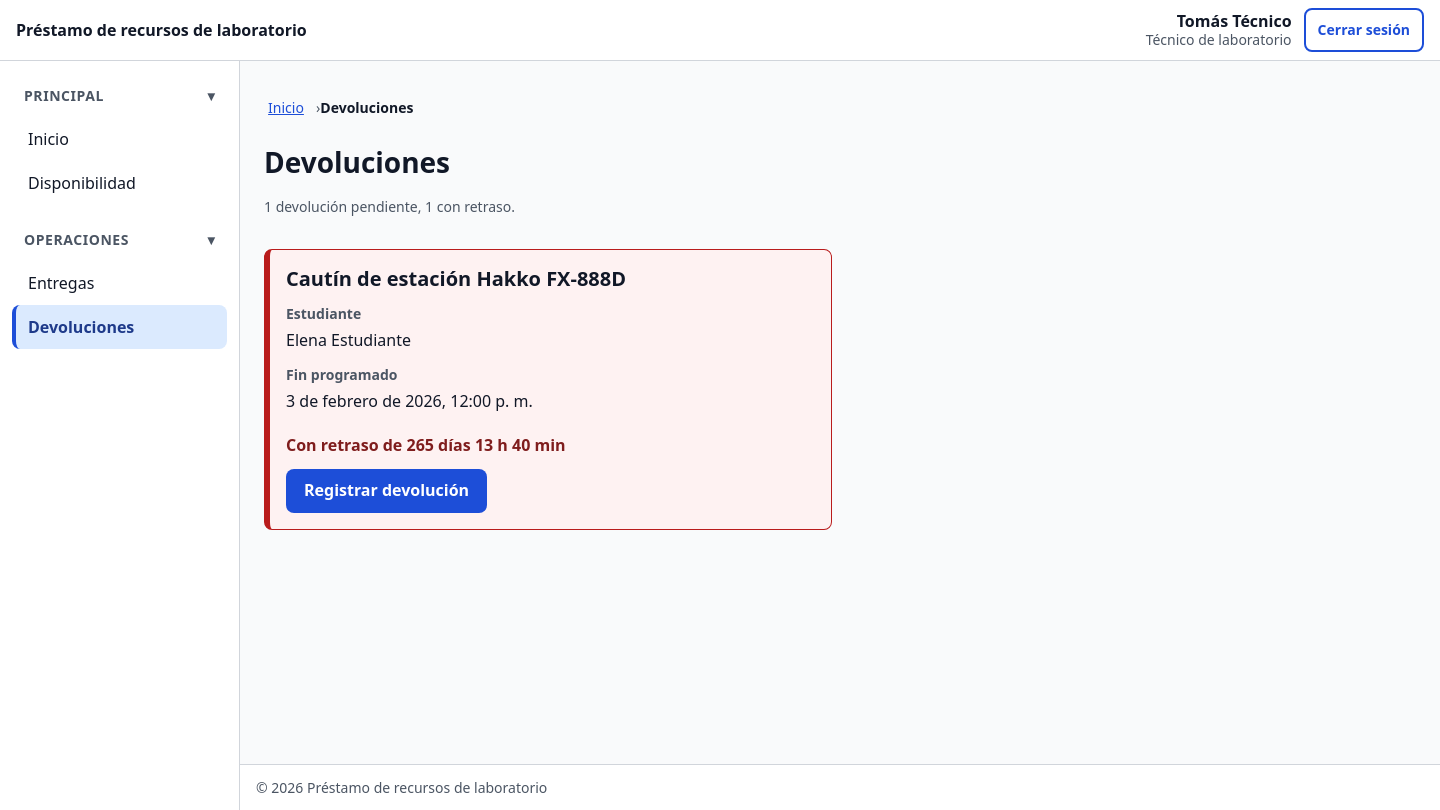
Test: devoluciones pendientes (Req 13) › devolver en buen estado libera la unidad, calcula el retraso y deja el recurso Disponible (Req 13.5–13.7, 13.10, 13.11)
The width and height of the screenshot is (1440, 810).
Step 1. Click the button with aria-label "Registrar devolución:" → (387,491), box [286,469,487,513]
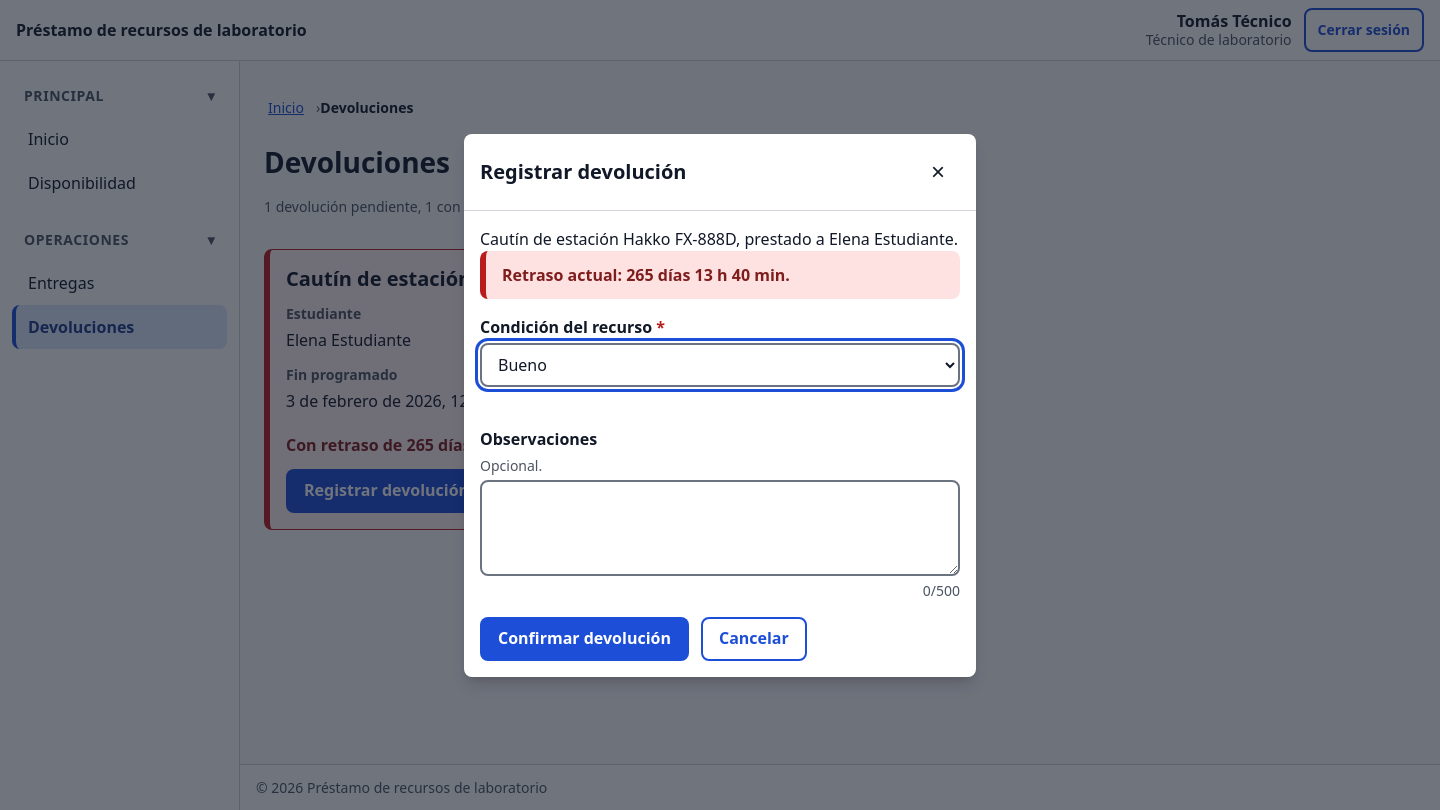
Step 2. Click the button "Confirmar devolución" → (584,638), box [480,616,689,660]
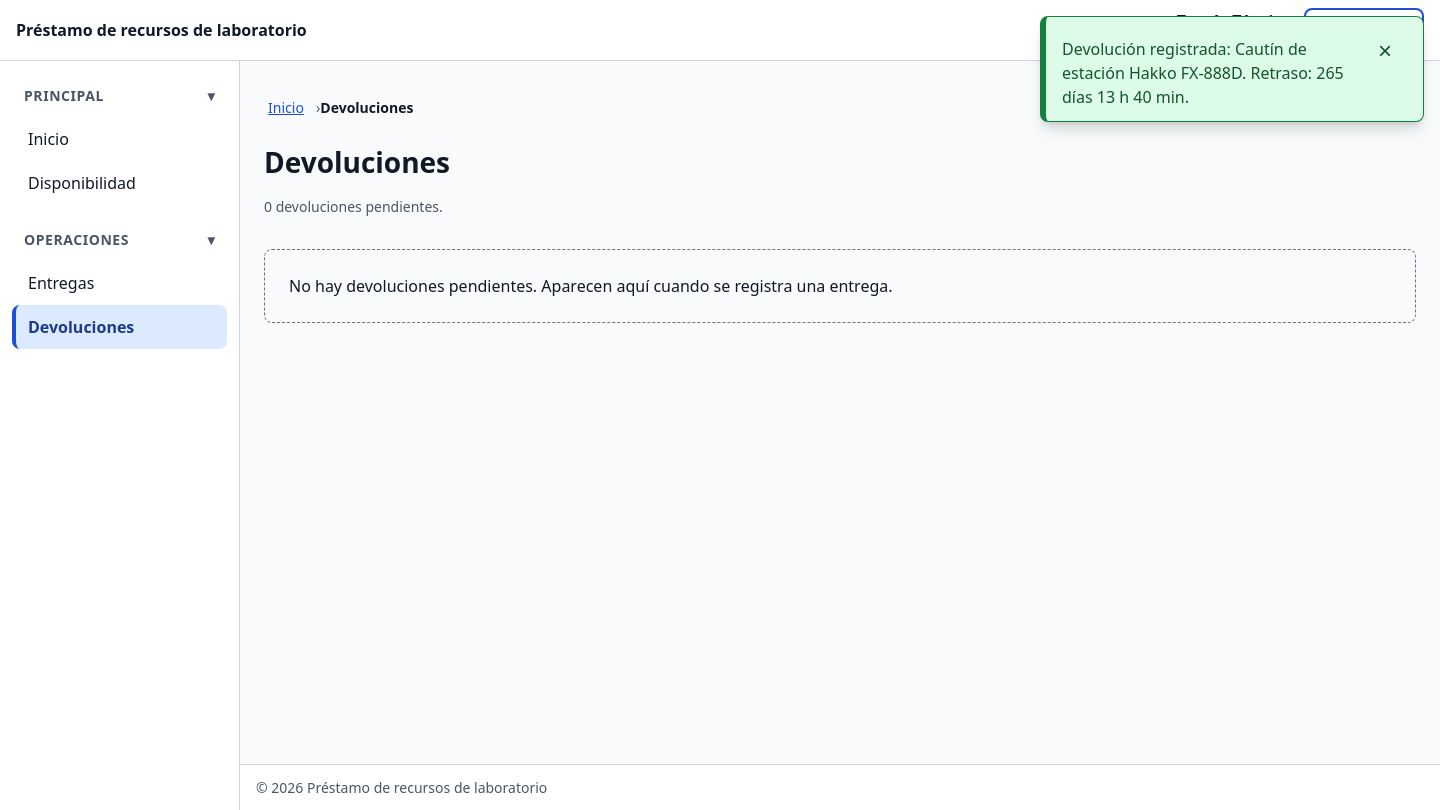
Check: the text "Devolución registrada: Cautín de estación Hakko FX-888D. Retraso: " is shown, box [1062,38,1344,108]
Check: the dialog is gone
Check: the text "No hay devoluciones pendientes" is shown, box [289,275,892,297]
